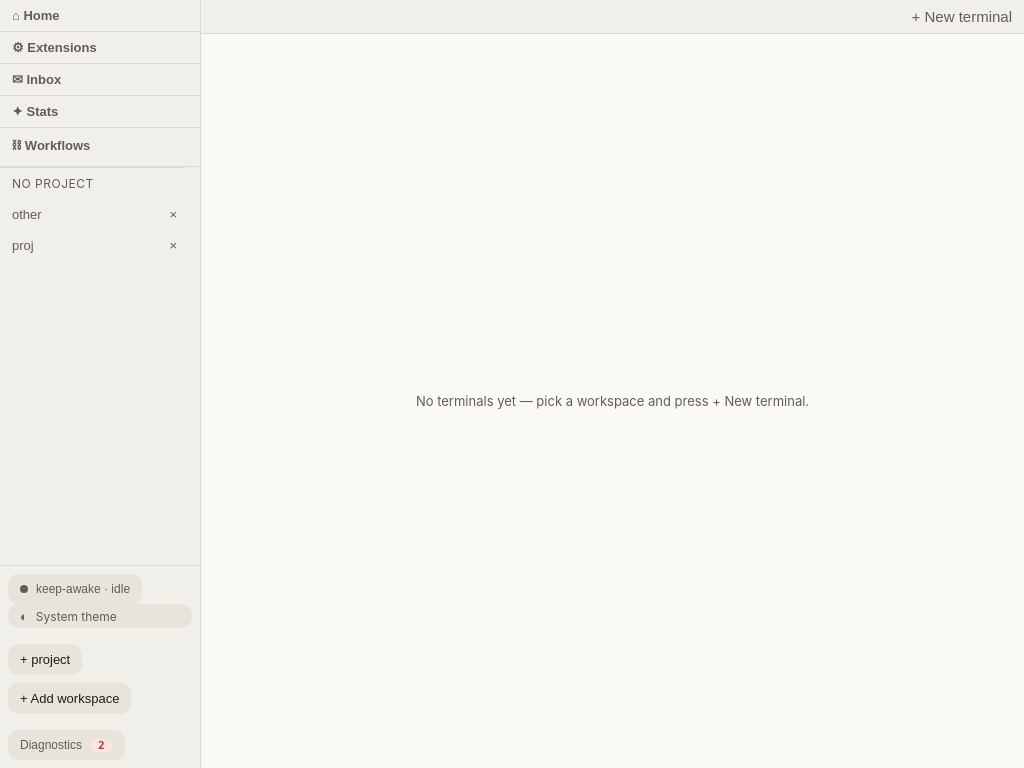
Test: workspace stat chips: the four buckets are an exhaustive partition › the restored chip drills down to the session titles like every other chip
Click the button "proj".
click(81, 246)  # box [0,230,161,261]
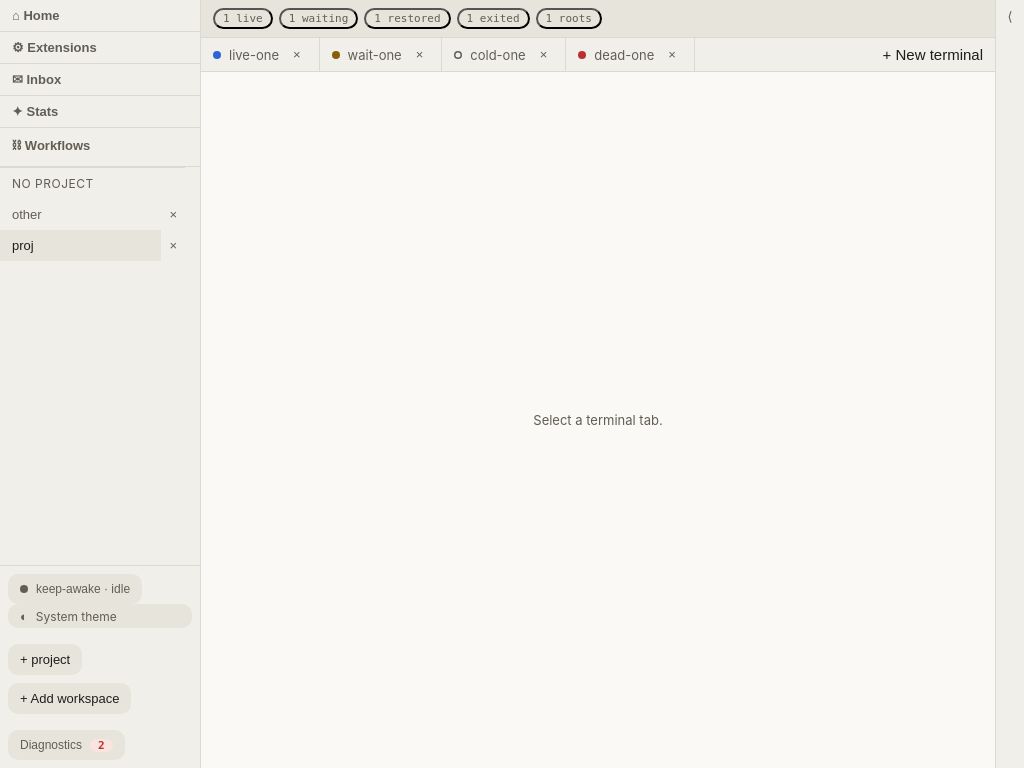
Click the button with test id "workspace-stat-restored".
click(408, 18)  # box [364,8,451,29]
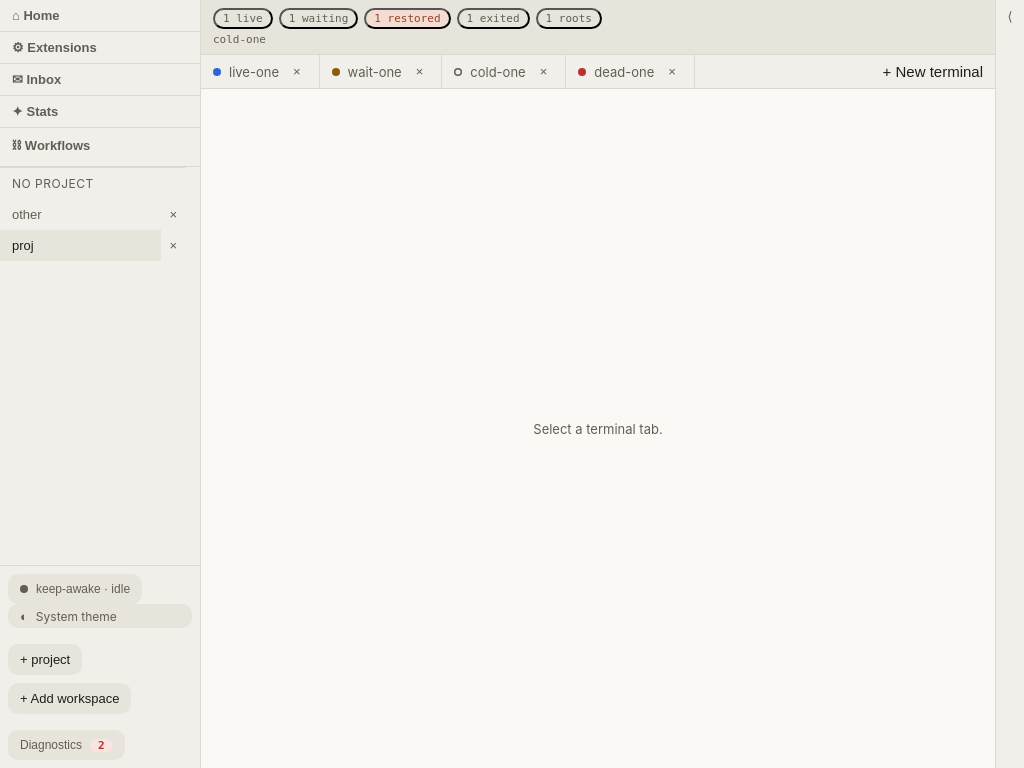
Now the text with test id "workspace-stat-detail" reads "cold-one", box [213,33,266,46]
